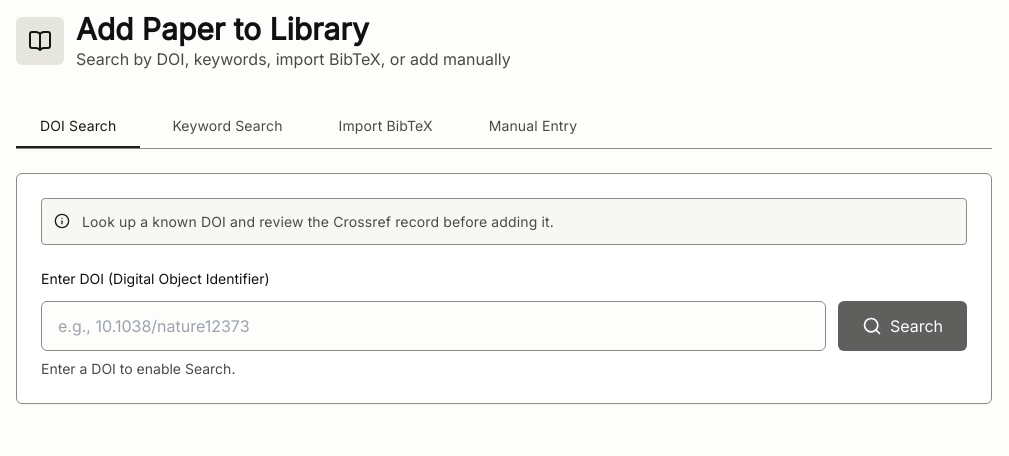
Test case: AddPaperView Accessibility › should have role="alert" for DOI search errors
Type "10.1234/notfound" into the field with placeholder "e.g., 10.1038/nature12373" at [433, 326], box x1=41 y1=301 x2=826 y2=351
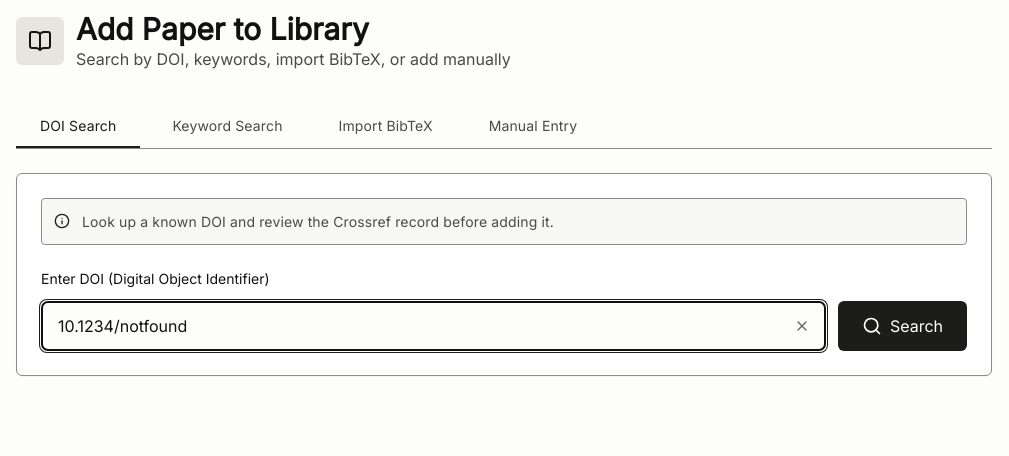
Click the button "Search" at [902, 326], box x1=838 y1=301 x2=967 y2=351
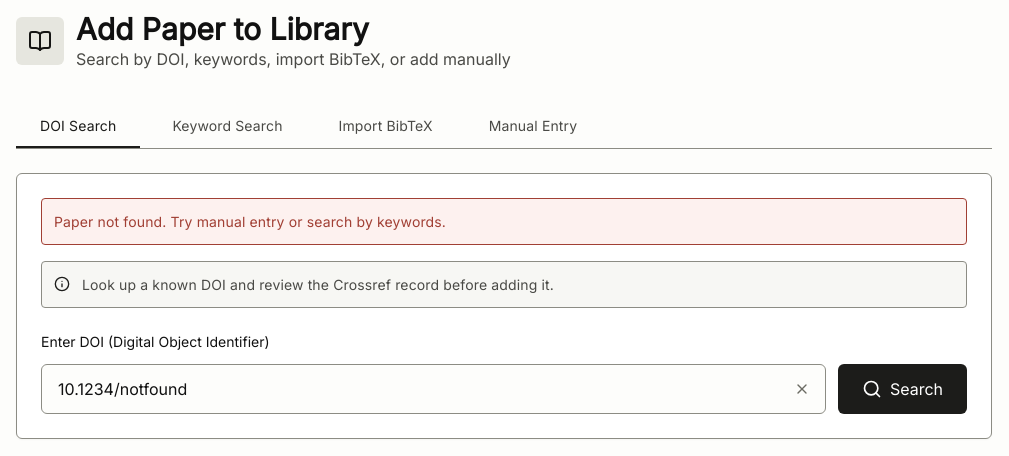
Now the message shows "Paper not found", box x1=54 y1=213 x2=446 y2=230
